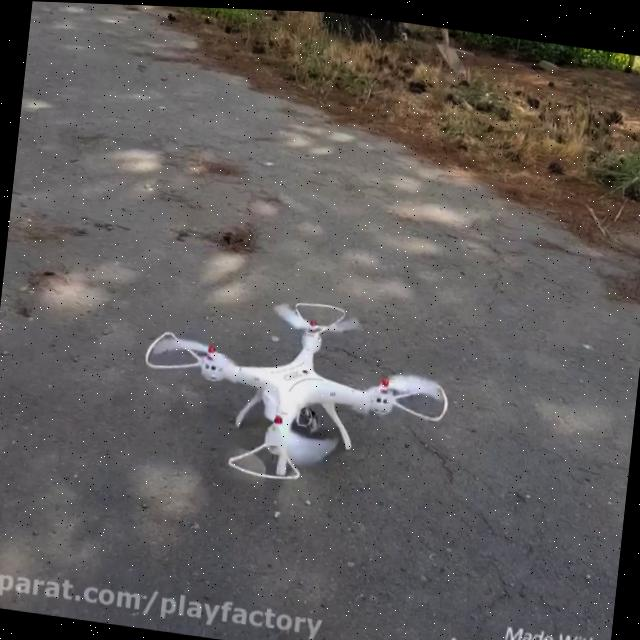drone: (130, 273, 460, 503)
